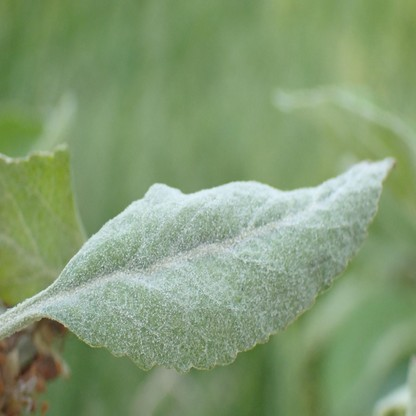powder: (46, 157, 395, 373)
